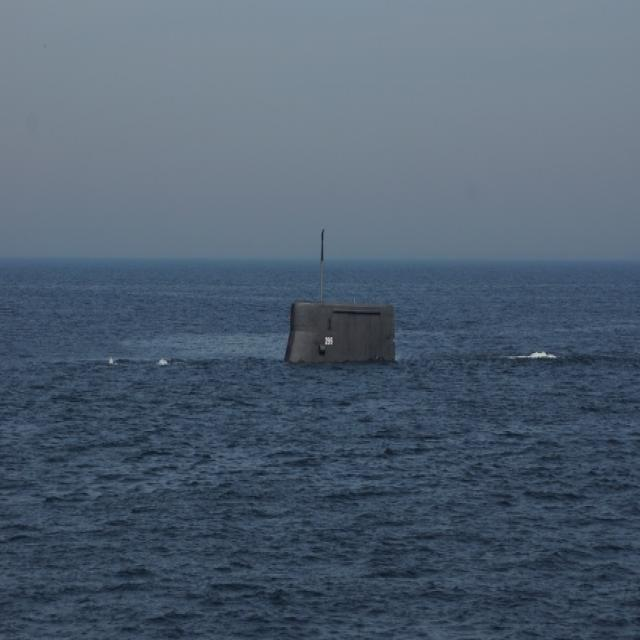submarine: (260, 230, 401, 354)
